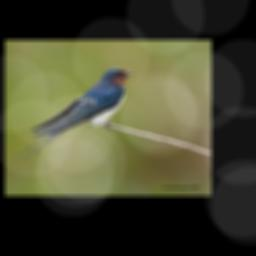Swallow: (15, 68, 133, 162)
